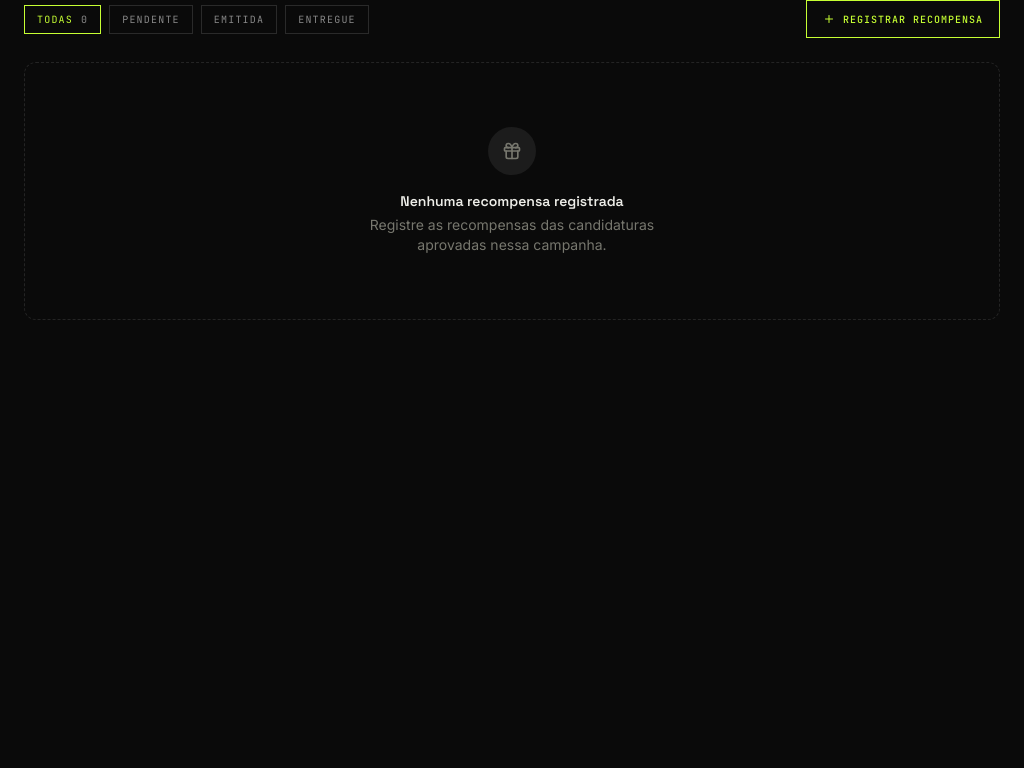
Test: CampaignRewardsTab › adapta o placeholder do valor ao tipo selecionado
The image size is (1024, 768).
Click the button "Registrar recompensa" at (903, 19), box [806,0,1000,38]
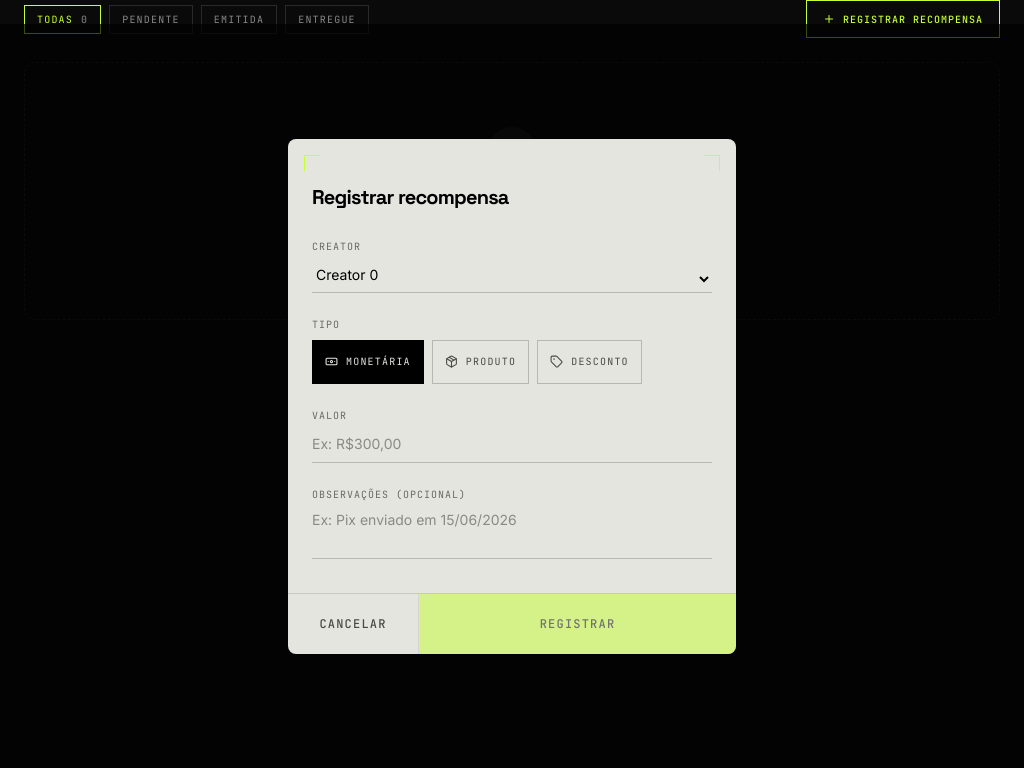
Expected: the field with placeholder "Ex: R$300,00" is shown, [312,434,712,462]
Click the button "Produto" at (480, 362), box [432,340,529,384]
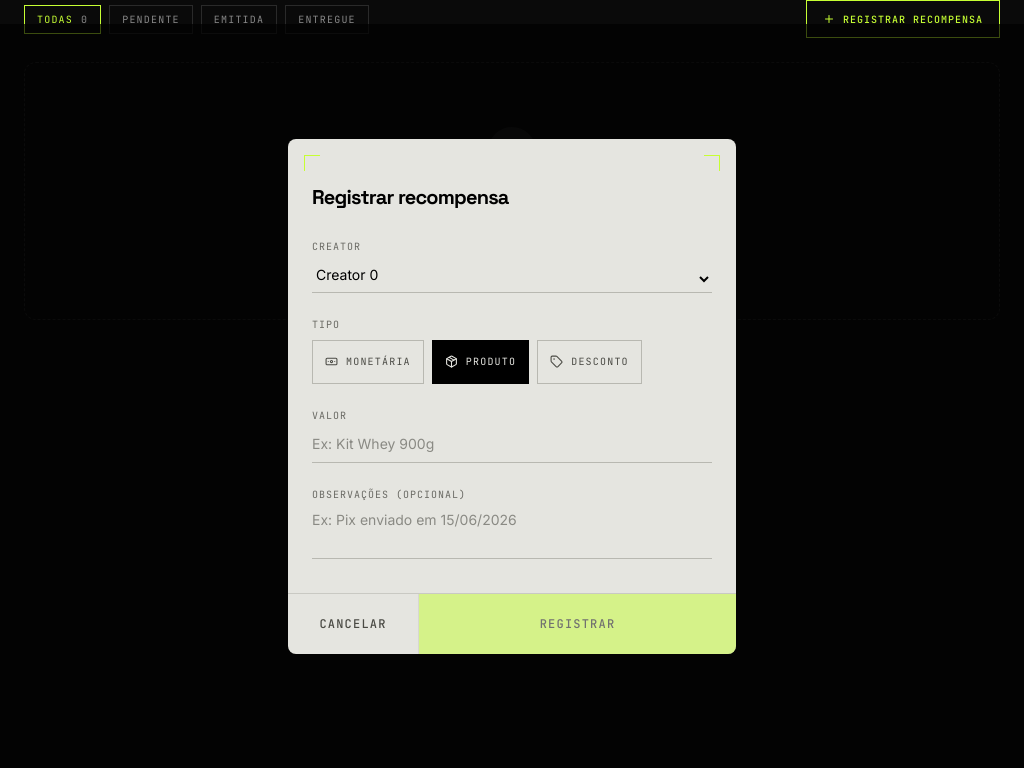
Expected: the field with placeholder "Ex: Kit Whey 900g" is shown, [312,434,712,462]
Click the button "Desconto" at (590, 362), box [537,340,642,384]
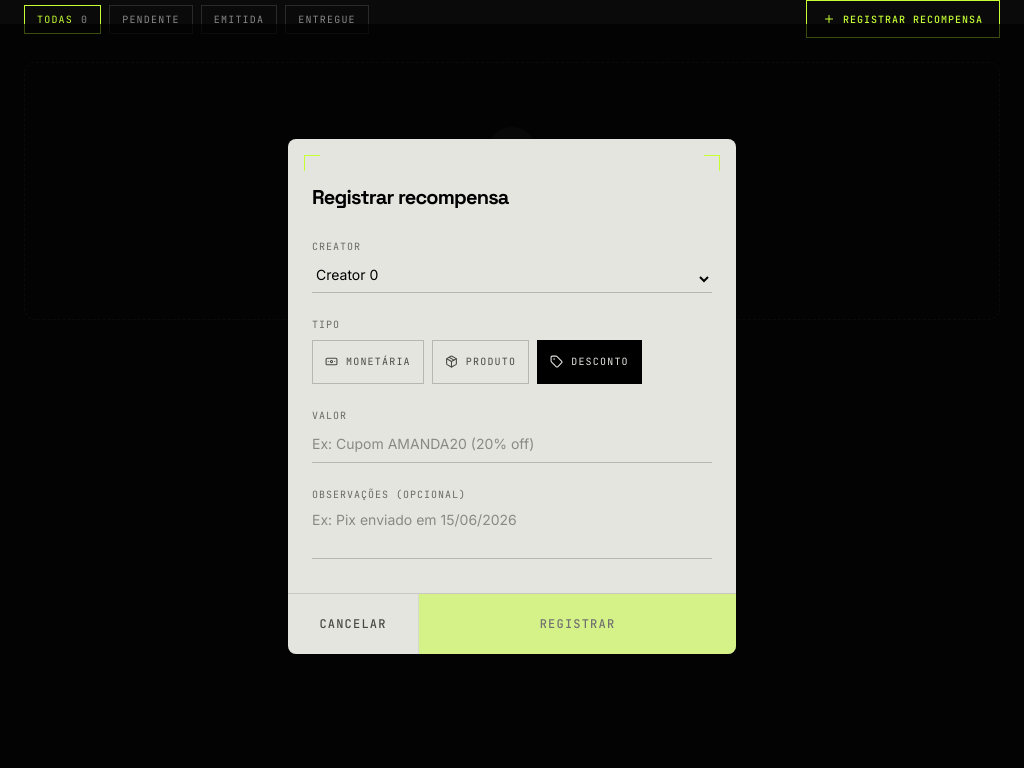
Expected: the field with placeholder "Ex: Kit Whey 900g" is not shown
Expected: the field with placeholder "Ex: Cupom AMANDA20 (20% off)" is shown, [312,434,712,462]
